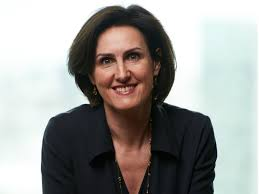middle_eastern_Female: (89, 19, 166, 107)
